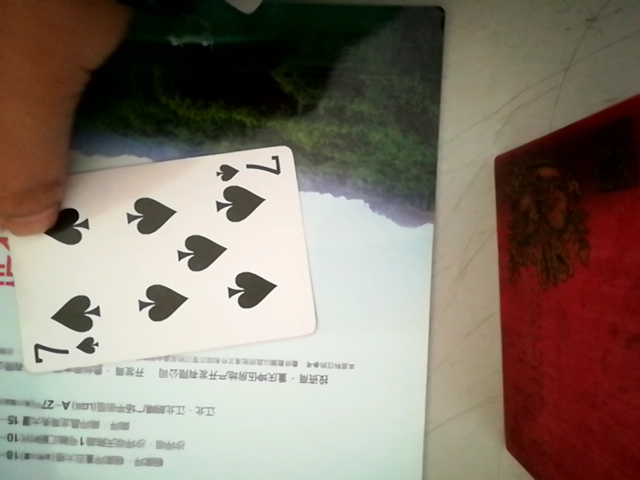ht 7: (19, 140, 317, 367)
